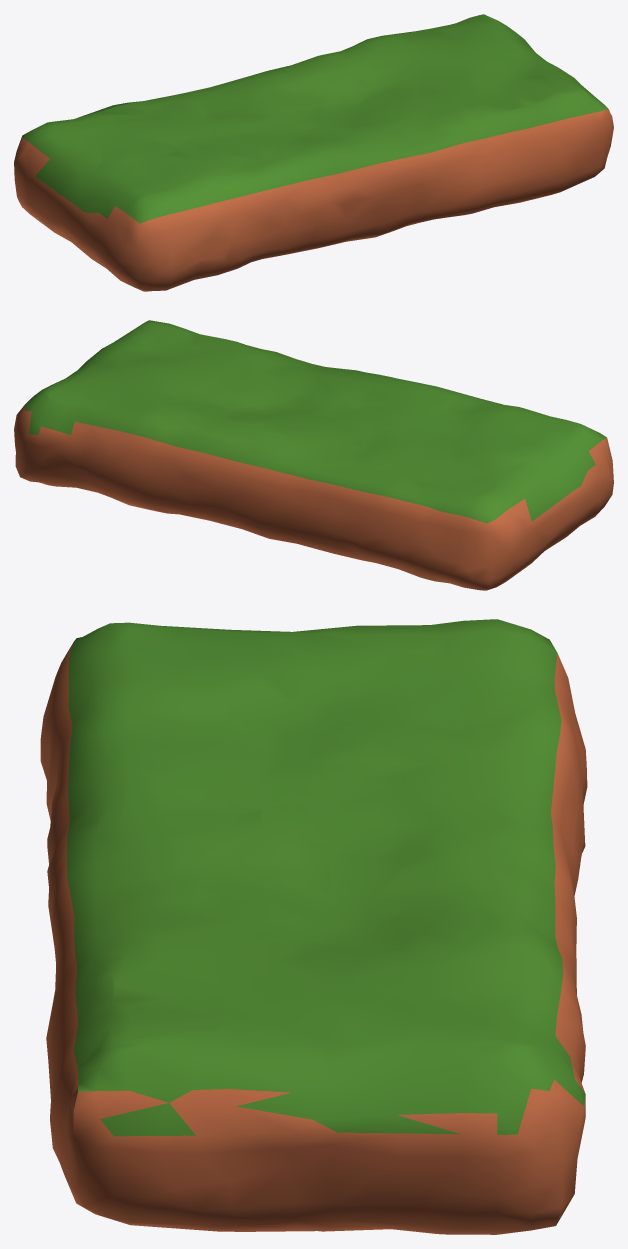
The model's file is canopy_moss_ledge.glb.
3 views of the same model, one above another, from view 1: azimuth 30°, elevation 25°; view 2: azimuth 150°, elevation 25°; view 3: azimuth 270°, elevation 25° (orthographic). The views are drawn at different scales.
Parts seen in each view (by area): view 1: canopy_moss_ledge; view 2: canopy_moss_ledge; view 3: canopy_moss_ledge.
Part boxes in pixels (box(x1,y1,x2,y2)): canopy_moss_ledge: box(14, 14, 613, 291); canopy_moss_ledge: box(14, 320, 613, 590); canopy_moss_ledge: box(40, 619, 587, 1234).
Size of the model in its own units: 3.46 by 0.6721 by 1.64.
